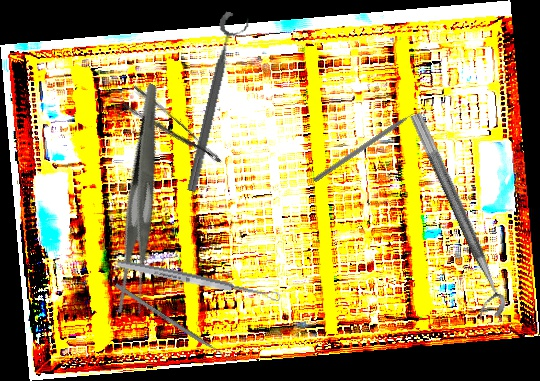Chopper: (312, 105, 428, 189)
Dressing Forceps: (59, 82, 227, 321), (119, 83, 224, 180)
Fixation Ring: (393, 111, 511, 324), (181, 10, 252, 196)
Pusher: (114, 282, 236, 365)
Surgical Spoon: (115, 257, 282, 304)
